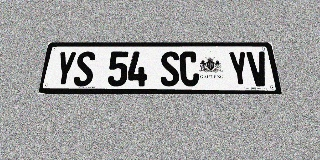4: (127, 51, 147, 86)
5: (107, 51, 128, 86)
C: (179, 51, 200, 86)
S: (73, 51, 96, 86), (161, 51, 180, 86)
V: (246, 51, 270, 86)
Y: (53, 51, 77, 86), (227, 51, 250, 86)
